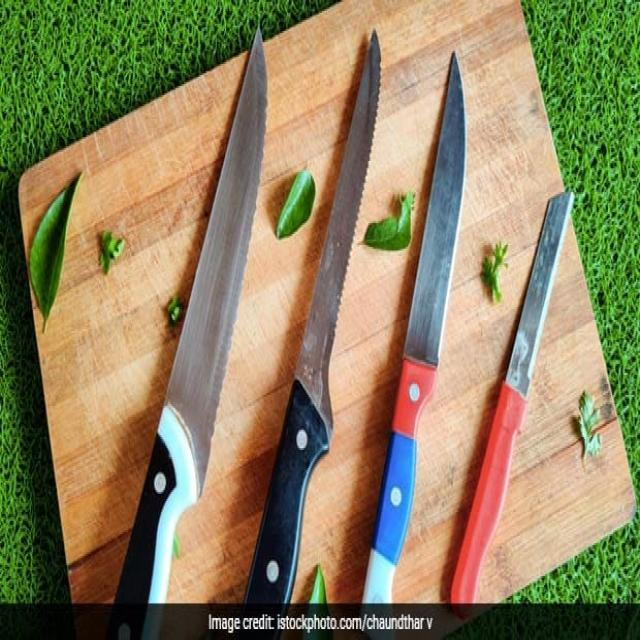knife: (74, 28, 275, 640), (253, 32, 390, 640), (440, 174, 568, 640), (383, 52, 477, 623)
